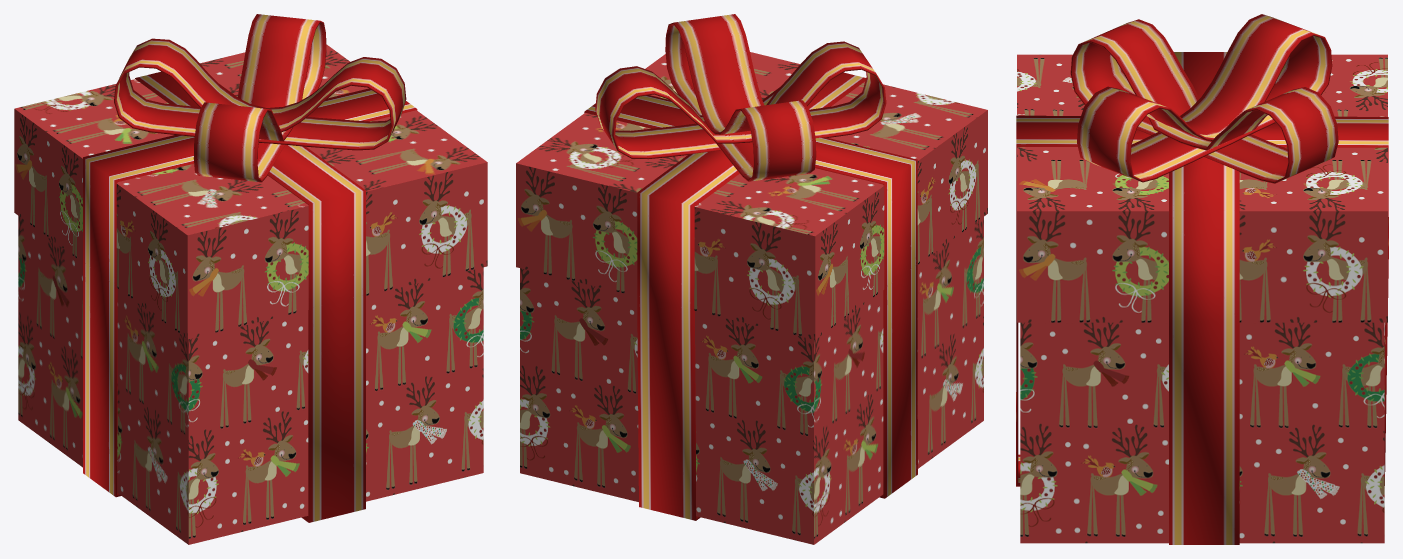
The model's file is giftbox-4.glb.
3 views of the same model, side by side, from view 1: azimuth 30°, elevation 25°; view 2: azimuth 150°, elevation 25°; view 3: azimuth 270°, elevation 25° (orthographic). The views are drawn at different scales.
Visible parts, largest first — view 1: gift; view 2: gift; view 3: gift.
Boxes of the visible parts, x1,y1,x2,y2 form: gift: (14, 14, 487, 544); gift: (516, 14, 987, 544); gift: (1016, 14, 1388, 544).
Size of the model in its own units: 2.05 by 2.51 by 2.05.
Materials: 1 (1 with a texture image).
